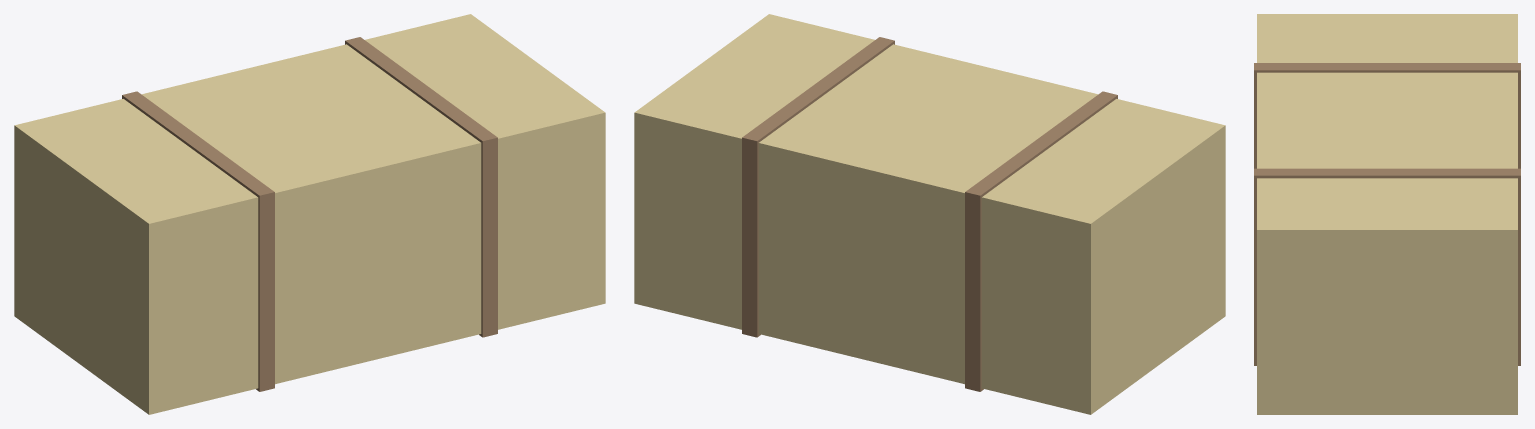
File: prop-hay-bale-fp1.fbx
3 views of the same model, side by side, from view 1: azimuth 30°, elevation 25°; view 2: azimuth 150°, elevation 25°; view 3: azimuth 270°, elevation 25° (orthographic). The views are drawn at different scales.
Parts seen in each view (by area): view 1: prop-hay-bale-fp1; view 2: prop-hay-bale-fp1; view 3: prop-hay-bale-fp1.
Part boxes in pixels (box(x1,y1,x2,y2)): prop-hay-bale-fp1: box(14, 14, 605, 414); prop-hay-bale-fp1: box(634, 14, 1225, 414); prop-hay-bale-fp1: box(1254, 14, 1520, 414).
Size of the model in its own units: 0.9 by 0.37 by 0.47.
